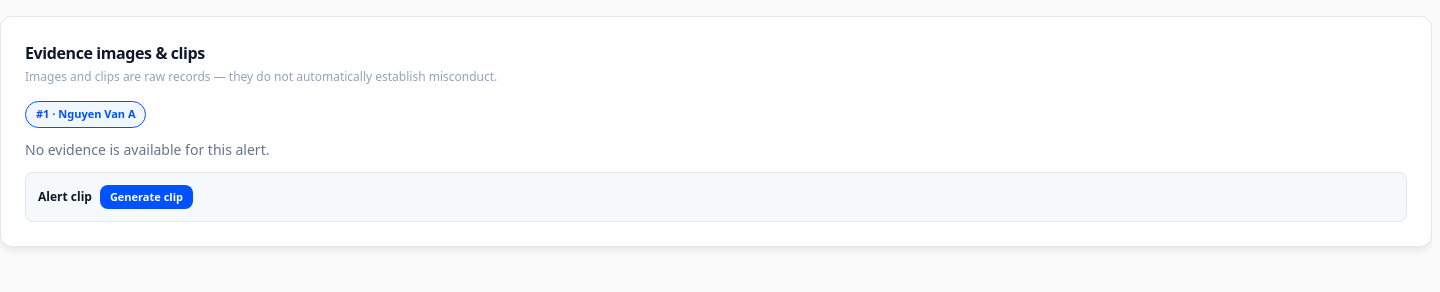
Test: EvidenceSection › clip rejection (EVIDENCE_CLIP_REJECTED) → honest disabled-clips copy
Click the button "Generate clip": (146, 197) [100,184,193,209]
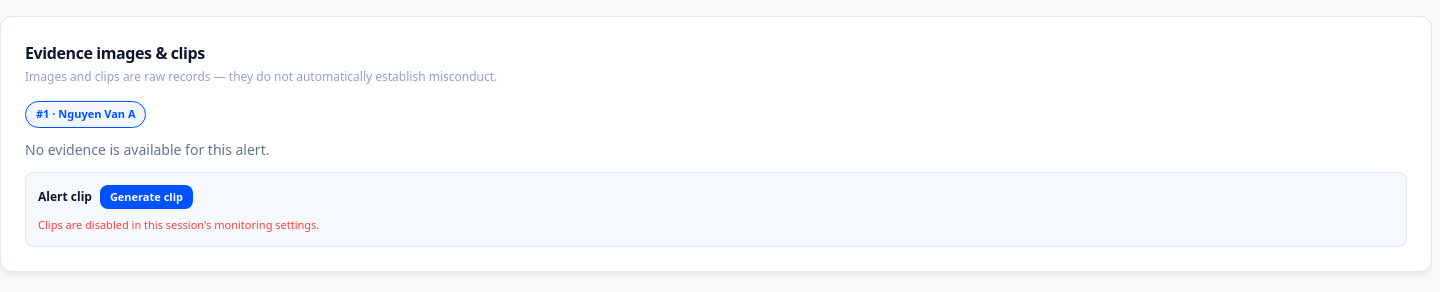
expect the text "Clips are disabled in this session's monitoring settings." is shown: met, box [38,217,319,232]
